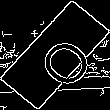O_NW: (20, 22, 90, 88)
